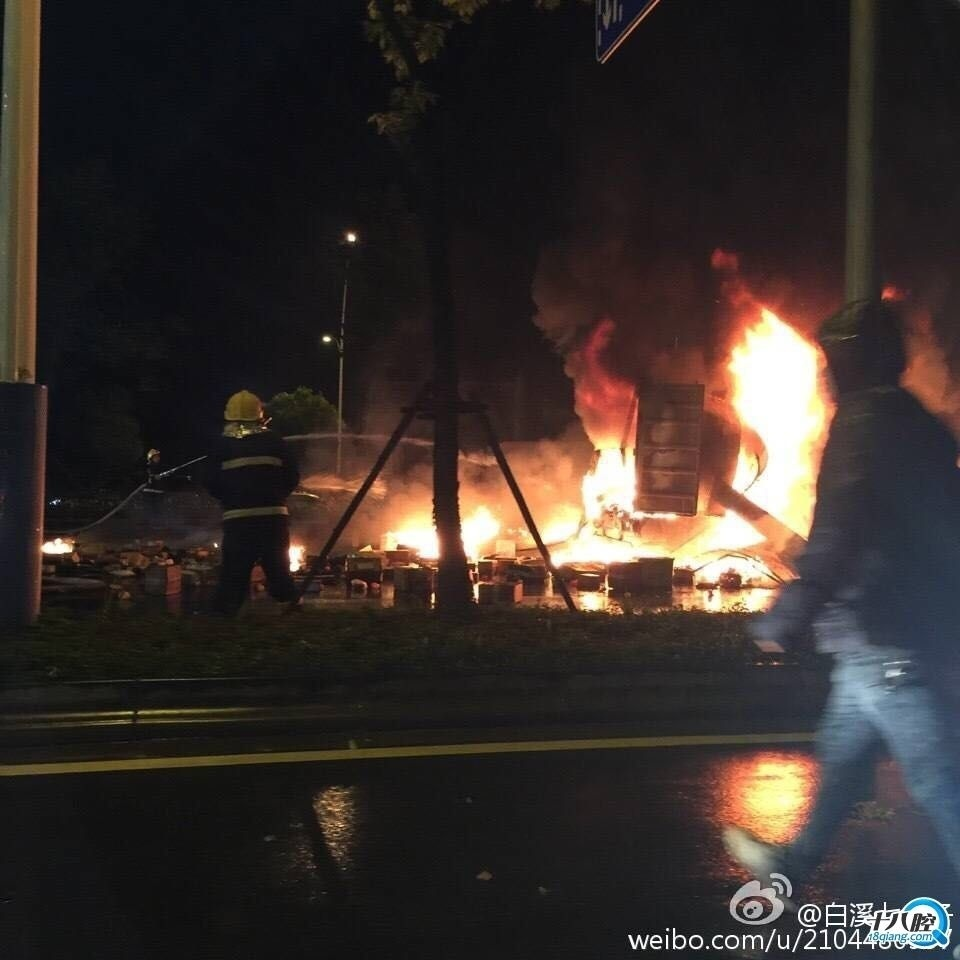fire: (434, 270, 846, 608)
